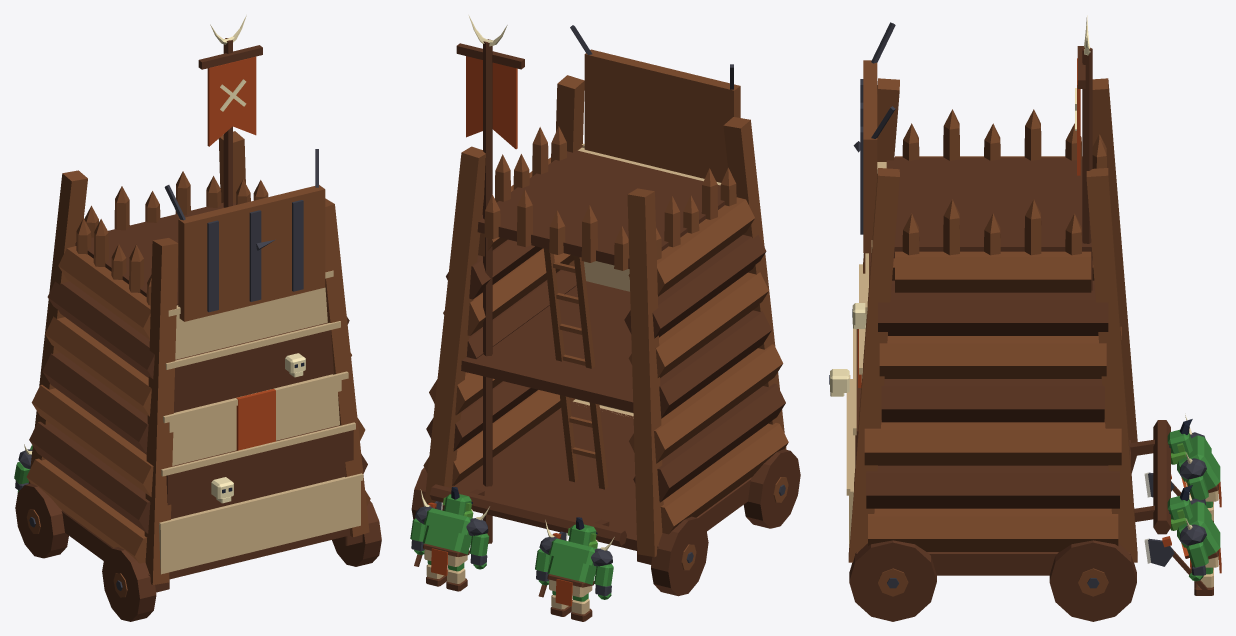
File: OrcSiegeTower.fbx
The picture shows the model from 3 angles, left to right: view 1: azimuth 30°, elevation 25°; view 2: azimuth 150°, elevation 25°; view 3: azimuth 270°, elevation 25°; orthographic projection. The views are drawn at different scales.
Visible parts, largest first — view 1: OrcSiegeTower, OrcSiegeTower-Bridge; view 2: OrcSiegeTower, OrcSiegeTower-Bridge; view 3: OrcSiegeTower, OrcSiegeTower-Bridge.
Boxes of the visible parts, x1,y1,x2,y2 form: OrcSiegeTower: [14, 15, 381, 621]; OrcSiegeTower-Bridge: [178, 185, 325, 321]; OrcSiegeTower: [410, 15, 800, 621]; OrcSiegeTower-Bridge: [584, 49, 740, 182]; OrcSiegeTower: [829, 15, 1221, 621]; OrcSiegeTower-Bridge: [853, 60, 877, 253].
Bounding box in the file's own units: 1.05 × 2.01 × 1.25.
